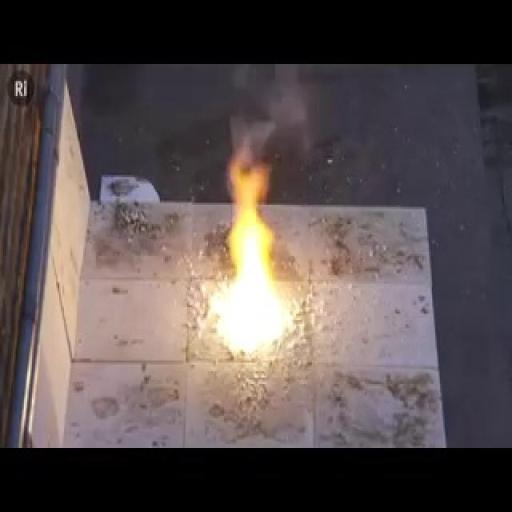smoke: (178, 154, 292, 367)
